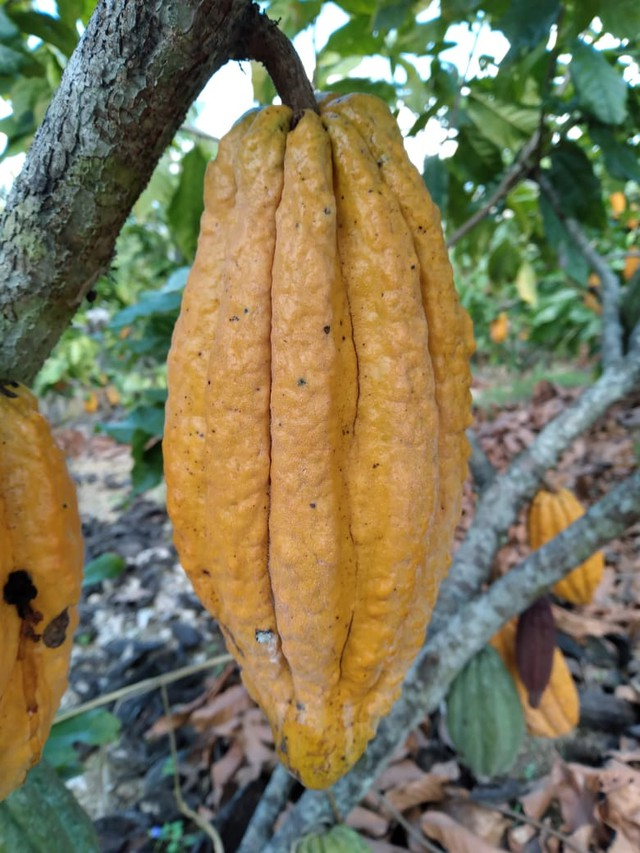moniliophthora roreri: (154, 89, 480, 797)
